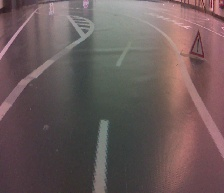warning sign: (188, 27, 206, 60)
